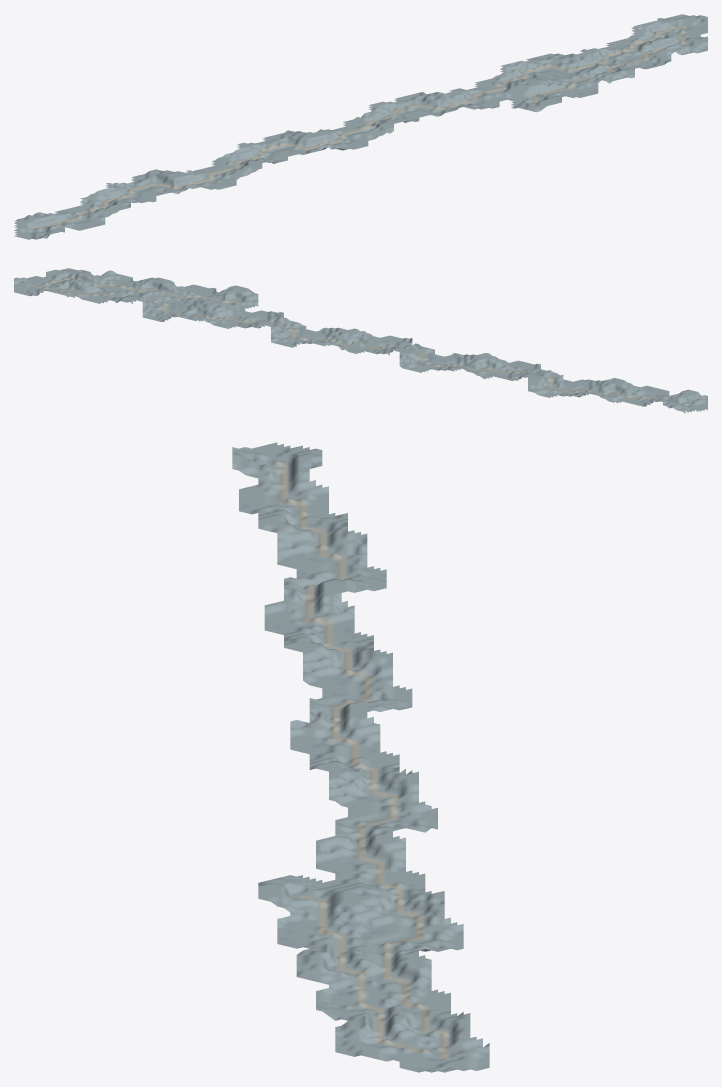
Rendered from terrain.glb.
The picture shows the model from 3 angles, top to bottom: view 1: azimuth 30°, elevation 25°; view 2: azimuth 150°, elevation 25°; view 3: azimuth 270°, elevation 25°; orthographic projection. The views are drawn at different scales.
Visible parts, largest first — view 1: NATURAL_10_-2, NATURAL_14_-2, NATURAL_13_-2, NATURAL_3_-1, NATURAL_12_-1, NATURAL_4_-1, NATURAL_15_-2, NATURAL_2_-1, NATURAL_11_-1, NATURAL_12_-2, NATURAL_7_-1, NATURAL_9_-2 (+15 smaller); view 2: NATURAL_15_-2, NATURAL_12_-2, NATURAL_11_-1, NATURAL_13_-2, NATURAL_4_-1, NATURAL_3_-1, NATURAL_5_-1, NATURAL_1_-1, NATURAL_14_-2, NATURAL_2_-1, NATURAL_12_-1, NATURAL_10_-2 (+19 smaller); view 3: NATURAL_14_-2, NATURAL_12_-1, NATURAL_2_-1, NATURAL_12_-2, NATURAL_15_-2, NATURAL_4_-1, NATURAL_13_-2, NATURAL_9_-2, NATURAL_7_-1, NATURAL_3_-1, NATURAL_10_-2, NATURAL_11_-1 (+16 smaller).
Boxes of the visible parts, x1,y1,x2,y2 form: NATURAL_10_-2: (394,90,477,112); NATURAL_14_-2: (566,47,652,69); NATURAL_13_-2: (522,57,608,79); NATURAL_3_-1: (128,172,214,194); NATURAL_12_-1: (522,78,598,97); NATURAL_4_-1: (175,166,254,186); NATURAL_15_-2: (610,37,696,58); NATURAL_2_-1: (87,185,159,205); NATURAL_11_-1: (478,85,561,109); NATURAL_12_-2: (482,64,561,87); NATURAL_7_-1: (303,133,371,150); NATURAL_9_-2: (365,101,433,120); NATURAL_15_-2: (68,271,107,300); NATURAL_12_-2: (184,299,222,327); NATURAL_11_-1: (223,289,261,320); NATURAL_13_-2: (145,291,184,316); NATURAL_4_-1: (492,356,531,382); NATURAL_3_-1: (531,367,569,394); NATURAL_5_-1: (454,353,492,375); NATURAL_1_-1: (608,381,646,406); NATURAL_14_-2: (107,282,145,308); NATURAL_2_-1: (570,379,608,400); NATURAL_12_-1: (184,284,222,305); NATURAL_10_-2: (261,320,299,346); NATURAL_14_-2: (354,949,431,1009); NATURAL_12_-1: (277,887,354,948); NATURAL_2_-1: (277,519,354,572); NATURAL_12_-2: (354,880,431,932); NATURAL_15_-2: (354,991,431,1044); NATURAL_4_-1: (277,588,354,644); NATURAL_13_-2: (354,907,431,971); NATURAL_9_-2: (354,767,418,822); NATURAL_7_-1: (290,702,354,757); NATURAL_3_-1: (277,555,354,614); NATURAL_10_-2: (354,801,431,859); NATURAL_11_-1: (277,860,354,907).
Size of the model in its own units: 380 by 2.9 by 64.8.
